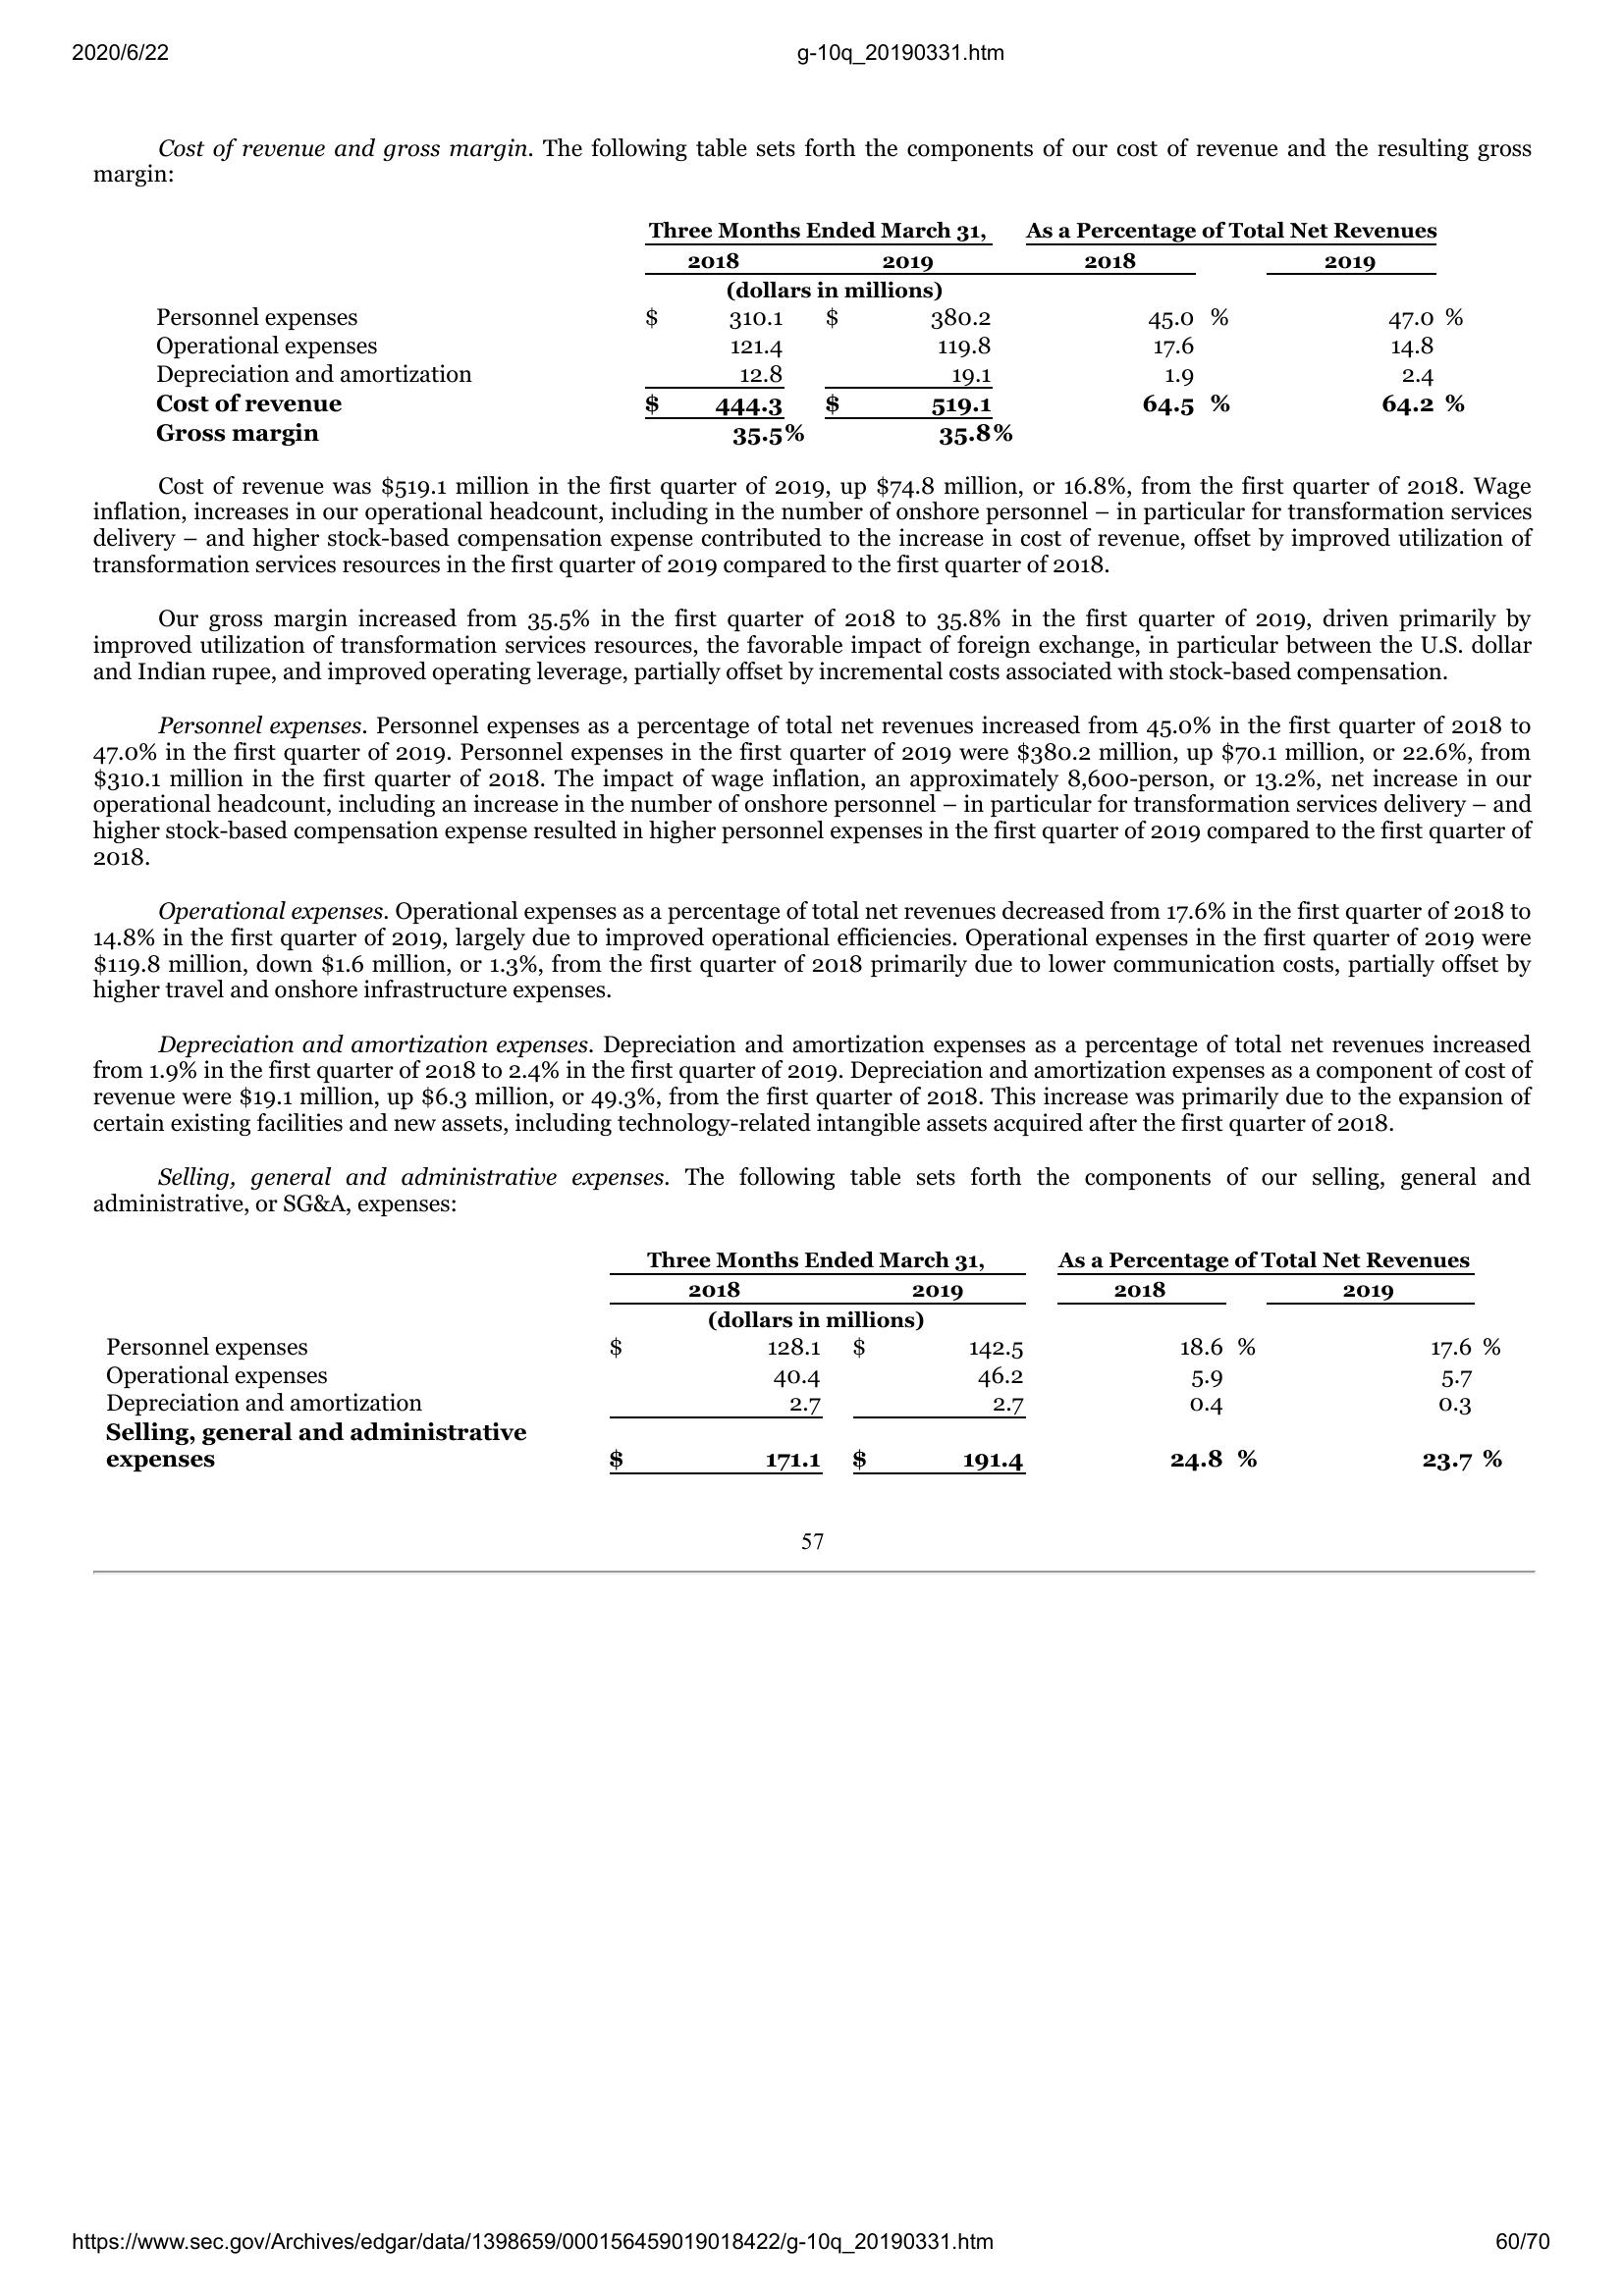table: (97, 1239, 1514, 1482), (146, 204, 1474, 458)
